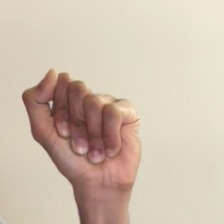A: (15, 62, 160, 217)
